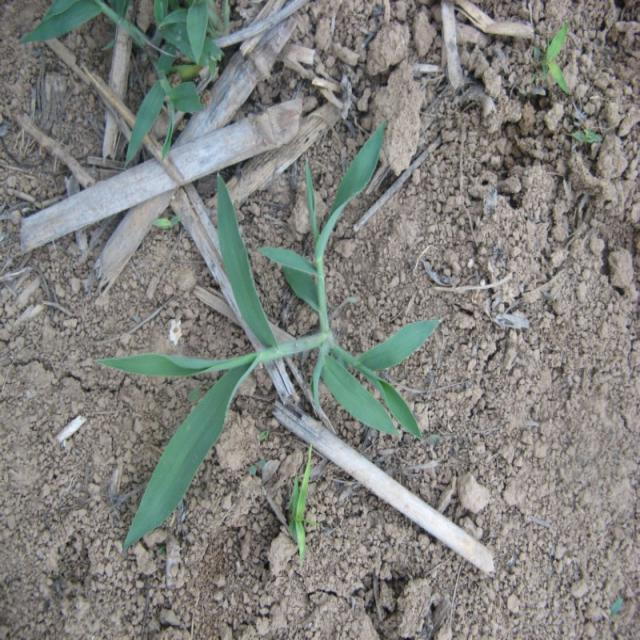bg: (90, 119, 443, 546)
